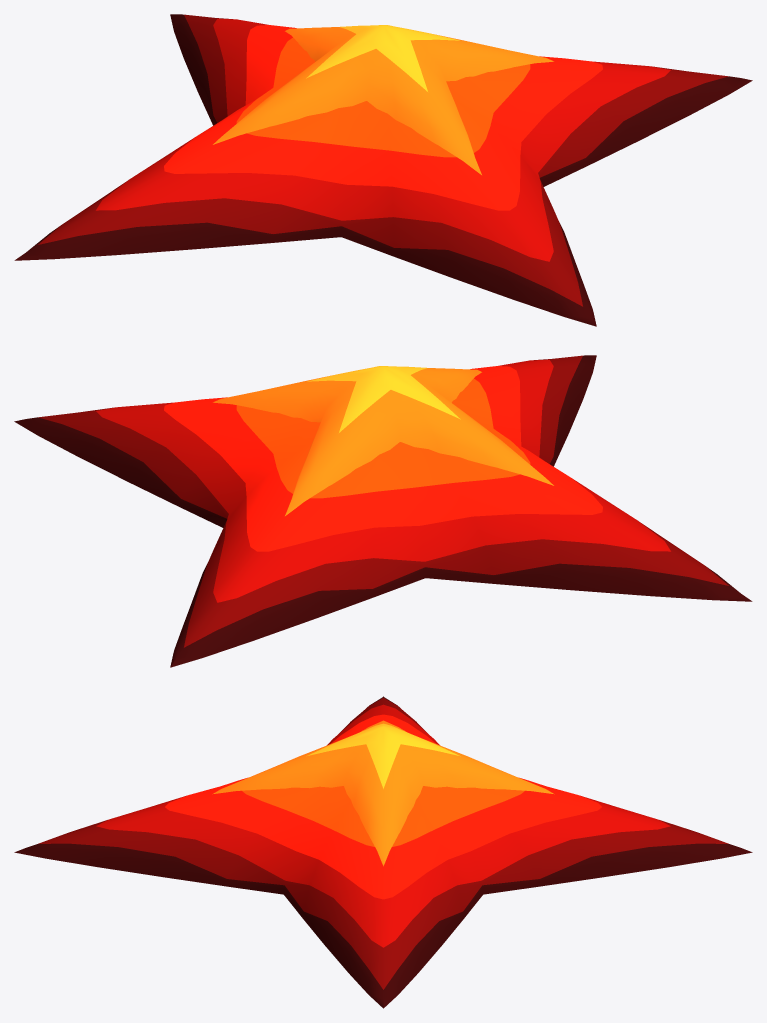
Rendered from shot_starburst_176.glb.
The picture shows the model from 3 angles, top to bottom: view 1: azimuth 30°, elevation 25°; view 2: azimuth 150°, elevation 25°; view 3: azimuth 270°, elevation 25°; orthographic projection. The views are drawn at different scales.
Visible parts, largest first — view 1: shot_starburst_176_fire, shot_starburst_176_core; view 2: shot_starburst_176_fire, shot_starburst_176_core; view 3: shot_starburst_176_fire, shot_starburst_176_core.
Part boxes in pixels (x1,y1,x2,y2): shot_starburst_176_fire: (14, 14, 752, 326); shot_starburst_176_core: (213, 25, 553, 174); shot_starburst_176_fire: (14, 355, 752, 667); shot_starburst_176_core: (213, 366, 553, 515); shot_starburst_176_fire: (14, 696, 752, 1008); shot_starburst_176_core: (212, 720, 554, 866).
Size of the model in its own units: 12 by 2.25 by 12.
